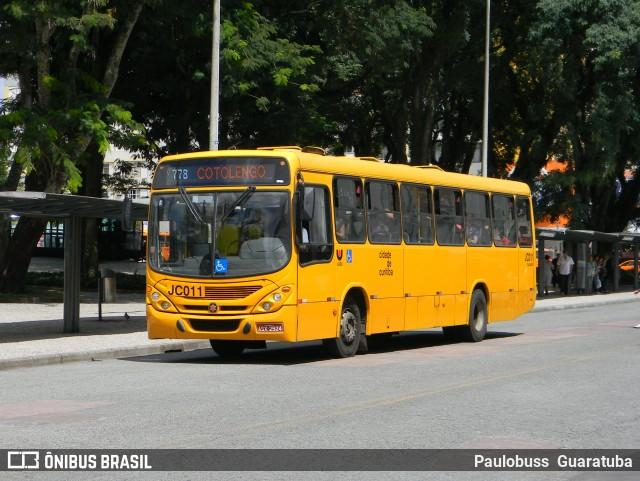COTOLENGO: (191, 160, 271, 184)
